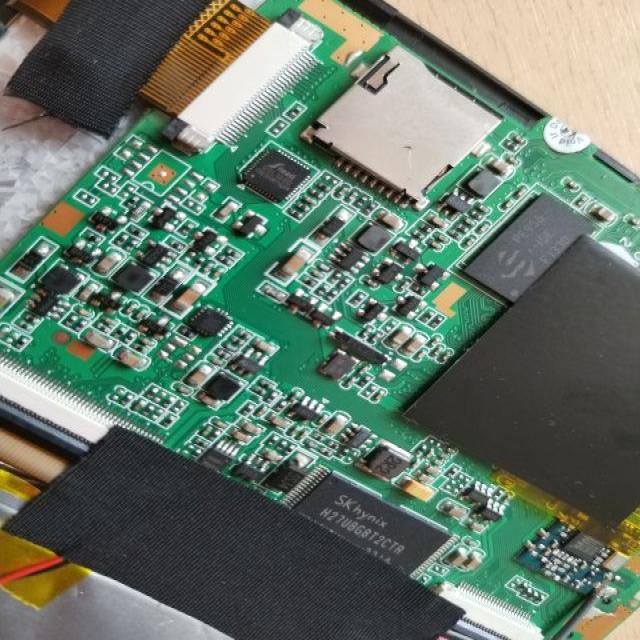capacitor: (279, 234, 311, 283), (182, 360, 212, 393), (213, 196, 240, 228), (406, 323, 425, 368), (442, 495, 467, 526), (178, 282, 202, 314), (323, 411, 346, 444), (118, 349, 142, 380), (442, 544, 464, 574), (482, 154, 512, 176), (224, 424, 249, 450), (96, 248, 126, 269), (374, 211, 404, 232), (77, 276, 96, 305), (388, 322, 406, 352), (88, 327, 106, 356), (463, 552, 489, 570), (595, 198, 613, 224), (244, 420, 259, 441), (429, 215, 446, 228)
resistor: (184, 443, 202, 465), (194, 432, 210, 456), (19, 334, 34, 356), (146, 379, 157, 398), (162, 411, 174, 426), (123, 388, 133, 402), (163, 392, 170, 401)
